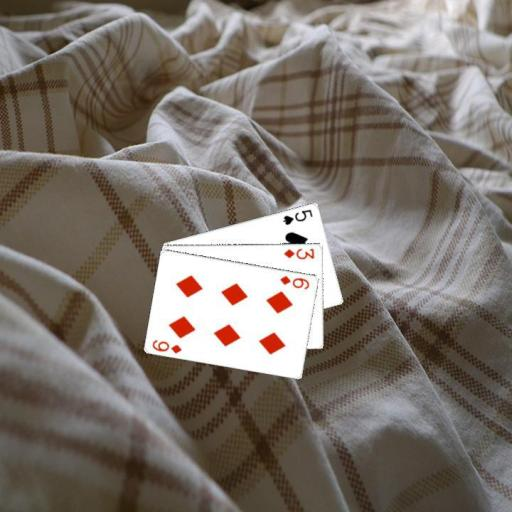3D: (281, 245, 316, 260)
5S: (280, 206, 314, 226)
6D: (277, 272, 311, 291), (150, 336, 184, 355)
